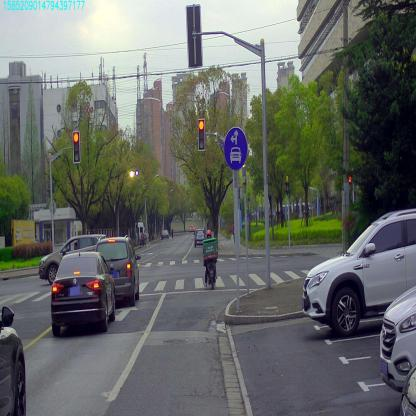traffic-light: (73, 132, 80, 162), (198, 119, 204, 150)
